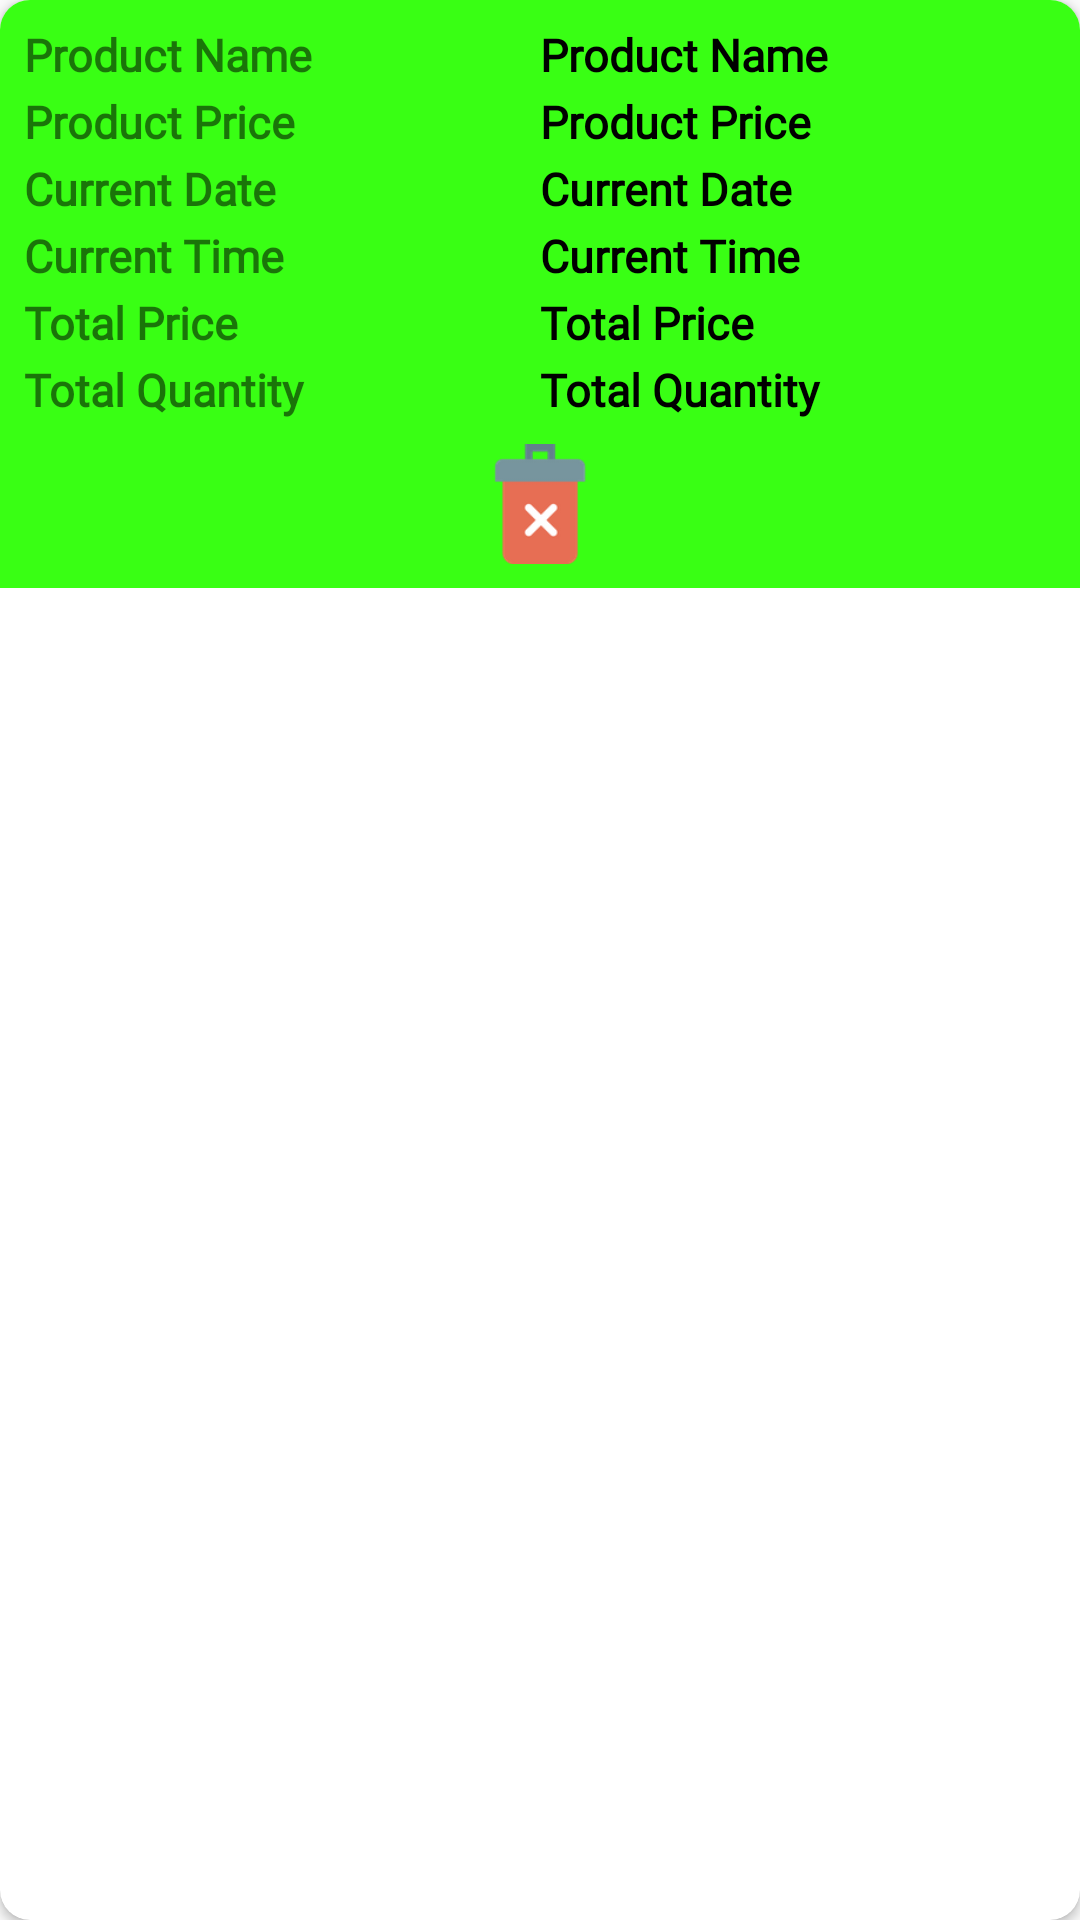

Screen size 1080px x 1920px. Icon name, then its center in pixels as point (x, y):
delete: point (540, 504)
